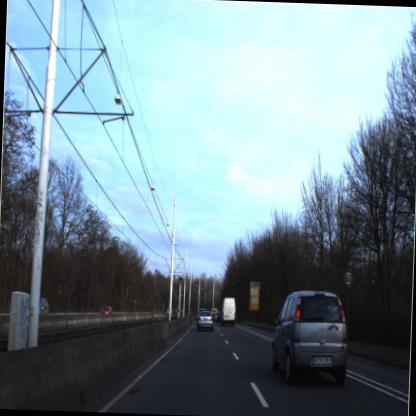prohibitory: (342, 266, 355, 290)
